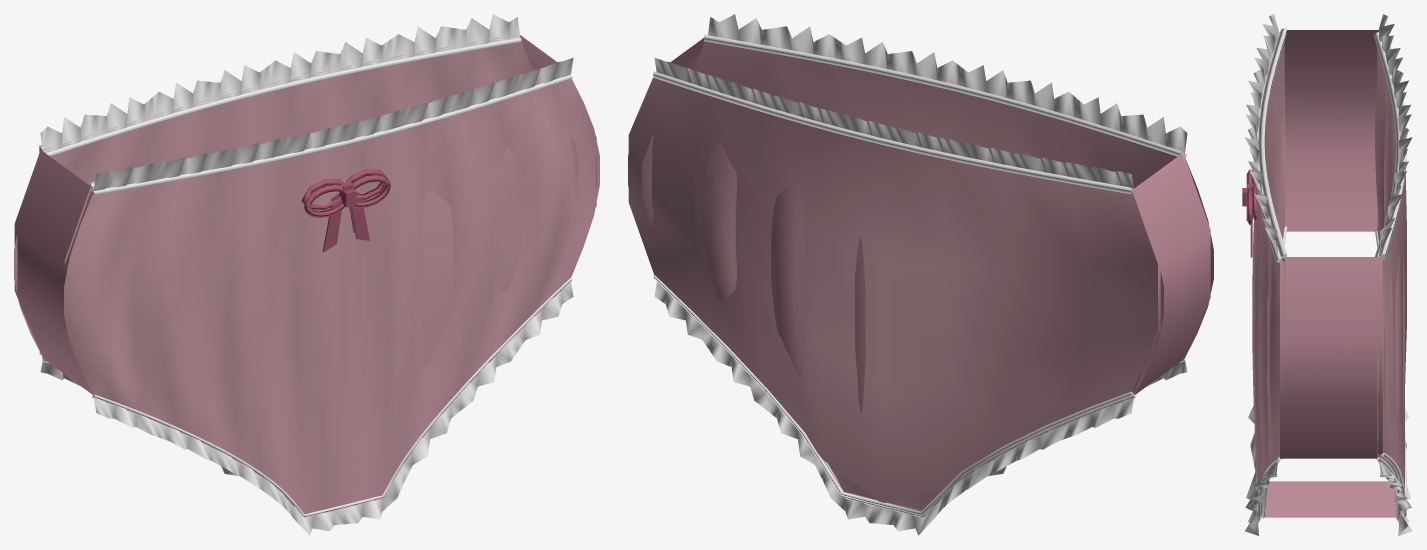
Rendered from inspect_knickers.glb.
3 views of the same model, side by side, from view 1: azimuth 30°, elevation 25°; view 2: azimuth 150°, elevation 25°; view 3: azimuth 270°, elevation 25° (orthographic). The views are drawn at different scales.
Parts seen in each view (by area): view 1: inspect_knickers-0, inspect_knickers-1, inspect_knickers_lod-0, inspect_knickers-2, inspect_knickers_lod-2; view 2: inspect_knickers_lod-0, inspect_knickers-1, inspect_knickers-0, inspect_knickers_lod-1; view 3: inspect_knickers_lod-0, inspect_knickers-0, inspect_knickers-1, inspect_knickers_lod-1, inspect_knickers-2, inspect_knickers_lod-2.
Boxes of the visible parts, box(x1,y1,x2,y2) form: inspect_knickers-0: box(14, 41, 599, 514); inspect_knickers-1: box(40, 14, 573, 535); inspect_knickers_lod-0: box(14, 35, 578, 389); inspect_knickers-2: box(304, 175, 390, 252); inspect_knickers_lod-2: box(301, 169, 387, 232); inspect_knickers_lod-0: box(628, 38, 1207, 509); inspect_knickers-1: box(654, 14, 1187, 535); inspect_knickers-0: box(628, 42, 1213, 510); inspect_knickers_lod-1: box(653, 34, 1184, 515); inspect_knickers_lod-0: box(1264, 30, 1406, 513); inspect_knickers-0: box(1252, 34, 1404, 517); inspect_knickers-1: box(1245, 14, 1412, 535); inspect_knickers_lod-1: box(1258, 27, 1407, 518); inspect_knickers-2: box(1242, 169, 1252, 257); inspect_knickers_lod-2: box(1247, 169, 1257, 252).
Bounding box in the file's own units: 0.3211 × 0.2316 × 0.0908.
